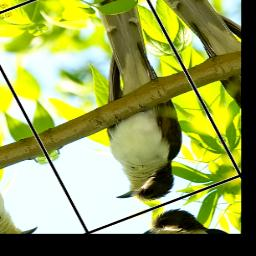Cuckoo: (18, 0, 230, 213)
